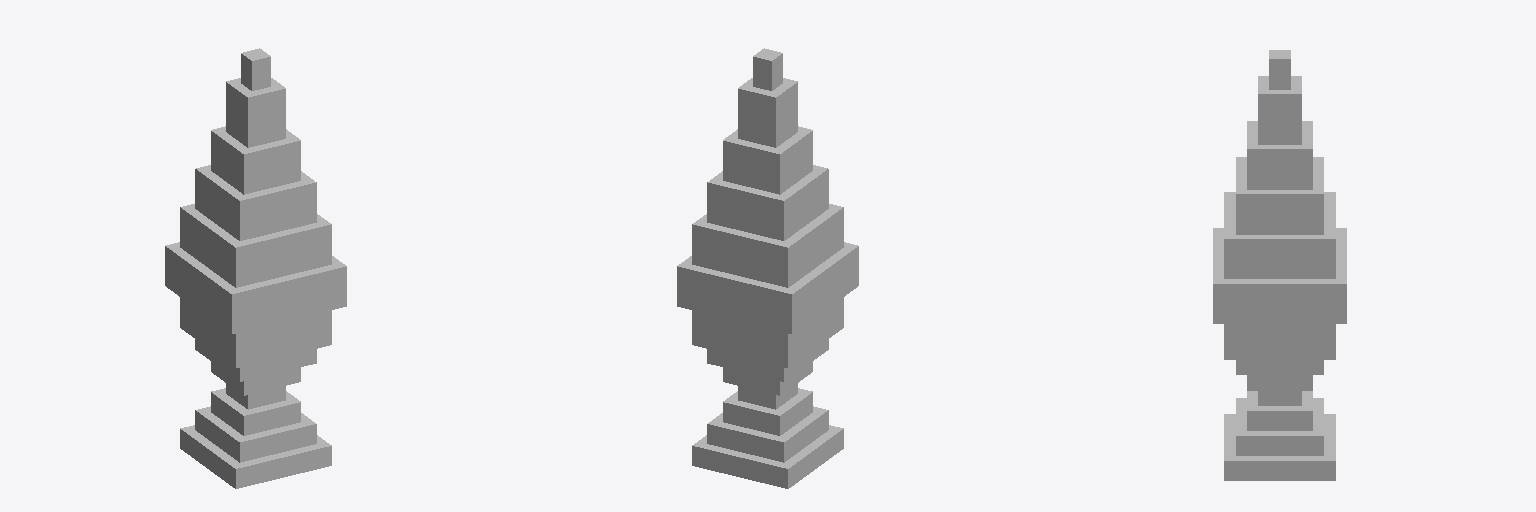
File: LavaLamp.obj
The picture shows the model from 3 angles: view 1: azimuth 30°, elevation 25°; view 2: azimuth 150°, elevation 25°; view 3: azimuth 270°, elevation 25°; orthographic projection.
Visible parts, largest first — view 1: LavaLamp; view 2: LavaLamp; view 3: LavaLamp.
Part boxes in pixels (bbox=[...]): LavaLamp: bbox=[165, 48, 346, 488]; LavaLamp: bbox=[677, 48, 858, 488]; LavaLamp: bbox=[1213, 50, 1346, 480].
Bounding box in the file's own units: 12 × 40 × 12.